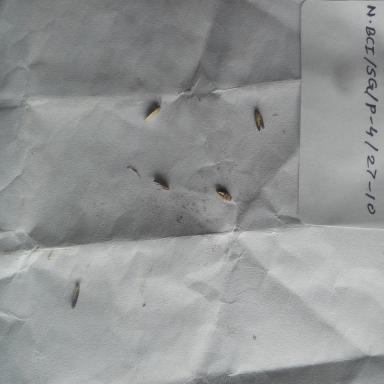pbw: (146, 173, 172, 199), (250, 104, 270, 136), (140, 98, 166, 122), (215, 185, 241, 207), (68, 282, 82, 310)
